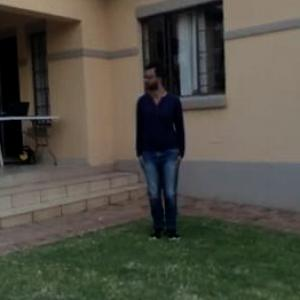follow: (128, 54, 188, 253)
